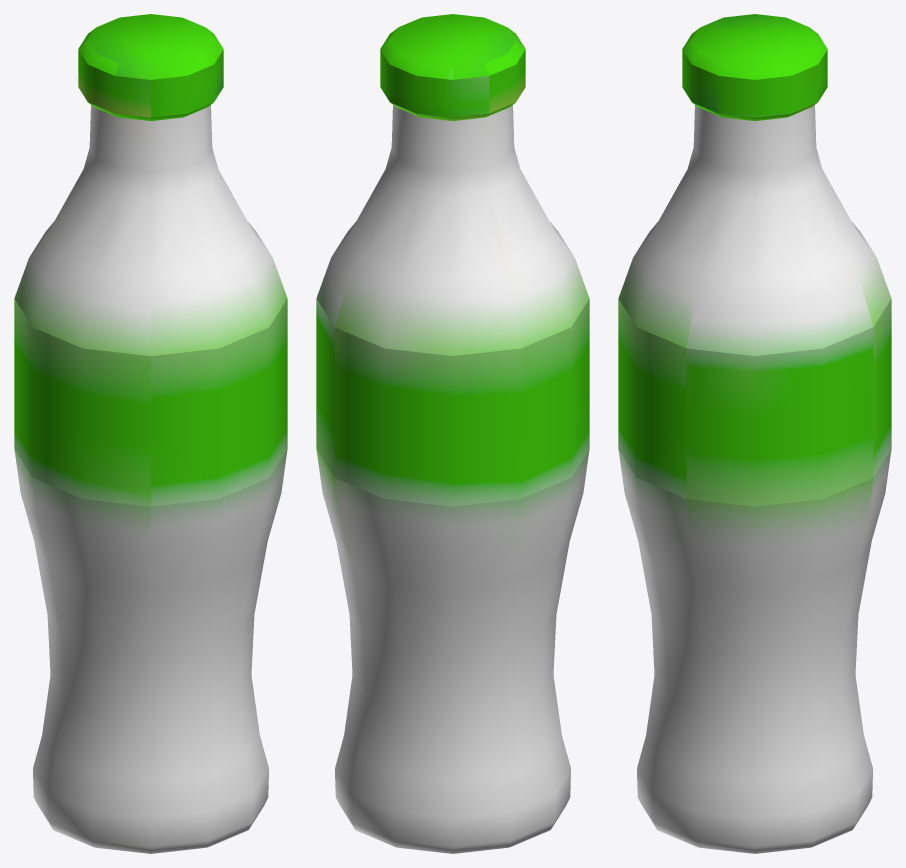
Rendered from Bottle2.fbx.
3 views of the same model, side by side, from view 1: azimuth 30°, elevation 25°; view 2: azimuth 150°, elevation 25°; view 3: azimuth 270°, elevation 25° (orthographic).
Visible parts, largest first — view 1: Bottle2; view 2: Bottle2; view 3: Bottle2.
Part boxes in pixels (x1,y1,x2,y2): Bottle2: (14, 14, 287, 853); Bottle2: (316, 14, 589, 853); Bottle2: (618, 14, 891, 853).
Size of the model in its own units: 4.04 by 12.56 by 4.04.
